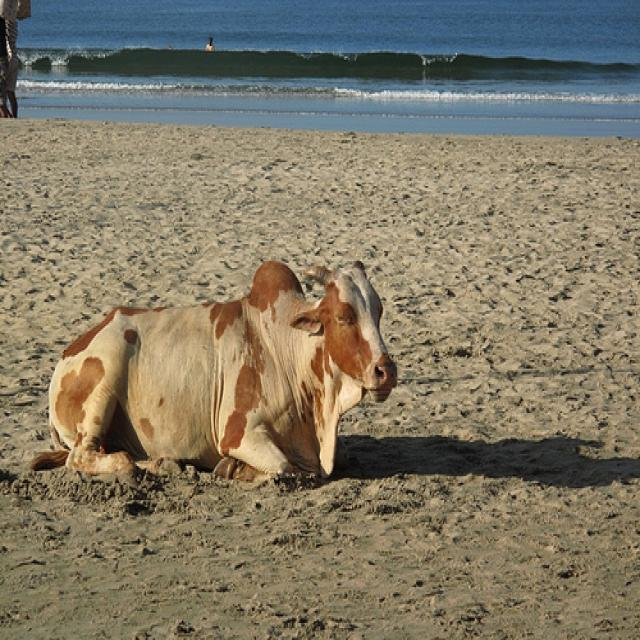cow: (14, 256, 402, 481)
